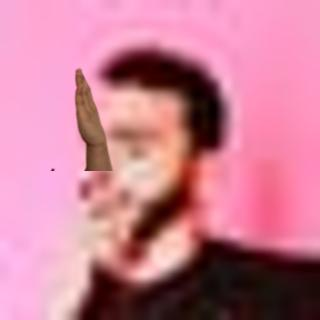RIGHT: (70, 66, 111, 153)
